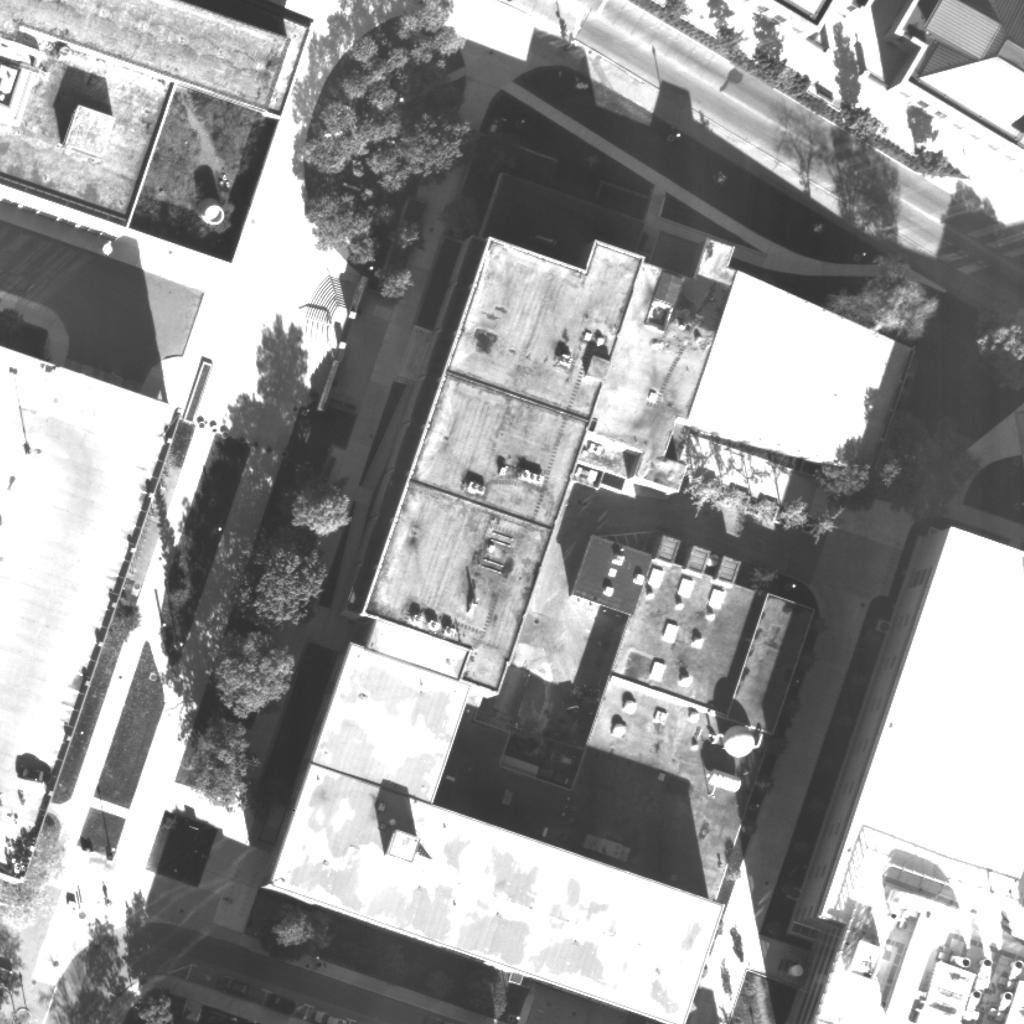car: (17, 757, 51, 791), (218, 968, 252, 1002), (262, 984, 296, 1018), (313, 1003, 347, 1024)
